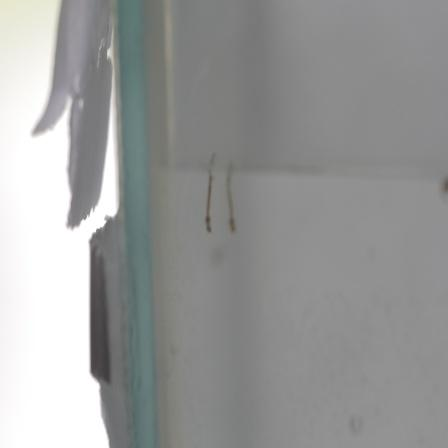Jentik-Nyamuk: (222, 169, 241, 235), (201, 169, 219, 237)
